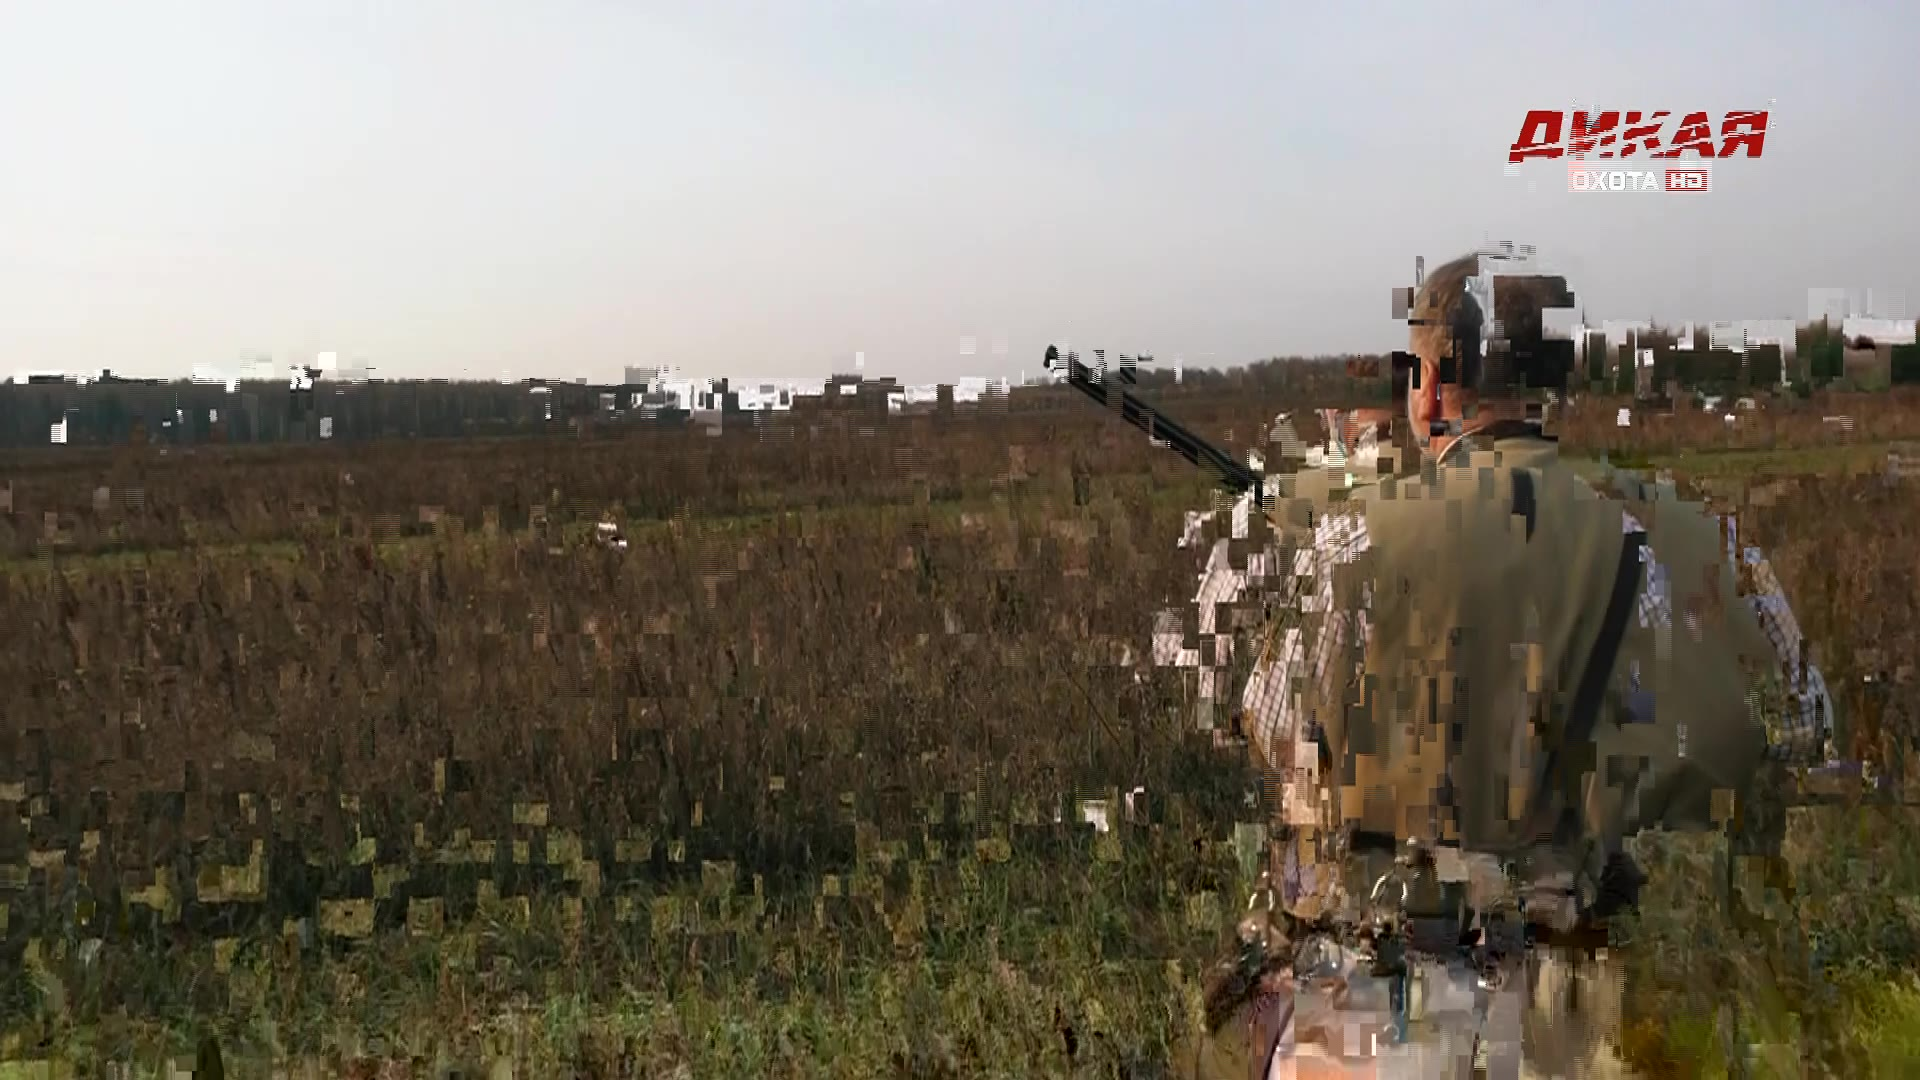Dikaya_Ohota_HD: (1505, 104, 1774, 196)
